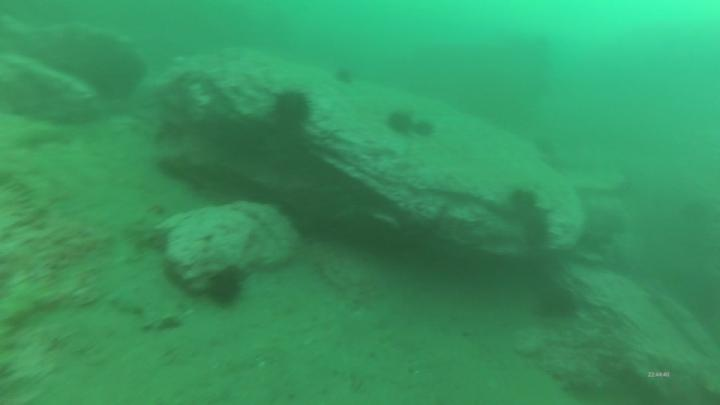echinus: (271, 88, 315, 130), (208, 263, 246, 308), (541, 287, 583, 322), (522, 209, 553, 253), (510, 185, 538, 220), (388, 107, 415, 140), (413, 118, 438, 141), (333, 64, 357, 86)
